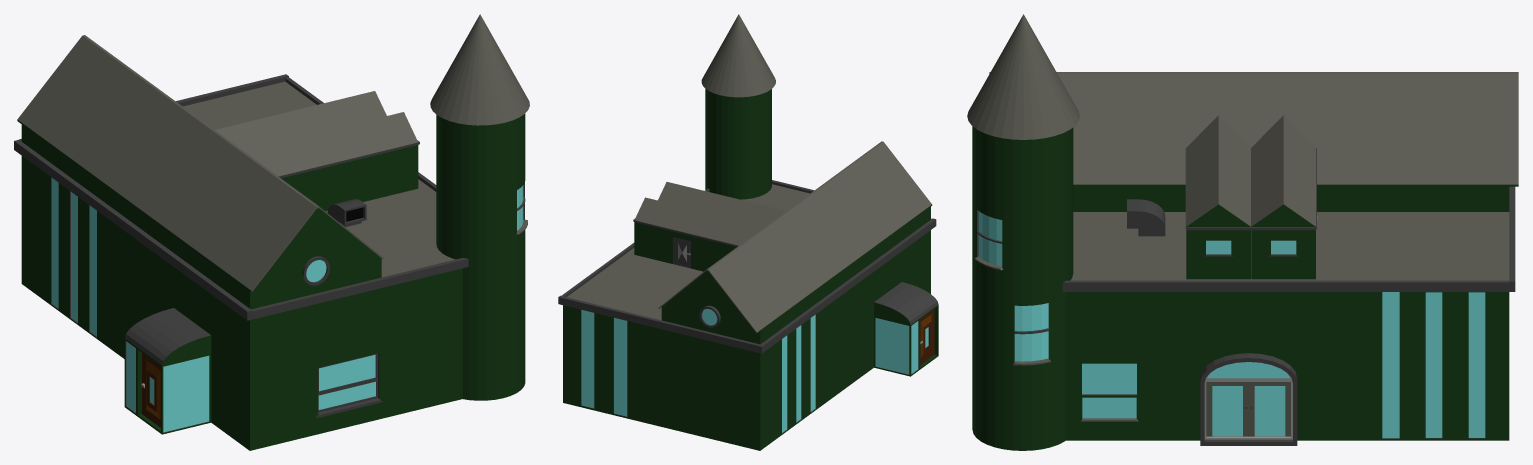
Rendered from house 5.fbx.
3 views of the same model, side by side, from view 1: azimuth 30°, elevation 25°; view 2: azimuth 150°, elevation 25°; view 3: azimuth 270°, elevation 25° (orthographic). The views are drawn at different scales.
Visible parts, largest first — view 1: House 5; view 2: House 5; view 3: House 5.
Boxes of the visible parts, x1=… form: House 5: x1=14, y1=14, x2=529, y2=450; House 5: x1=558, y1=14, x2=938, y2=450; House 5: x1=967, y1=14, x2=1518, y2=450.
Size of the model in its own units: 255 by 267 by 321.
